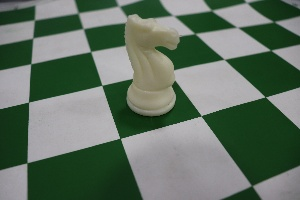white_horse: (118, 5, 186, 126)
